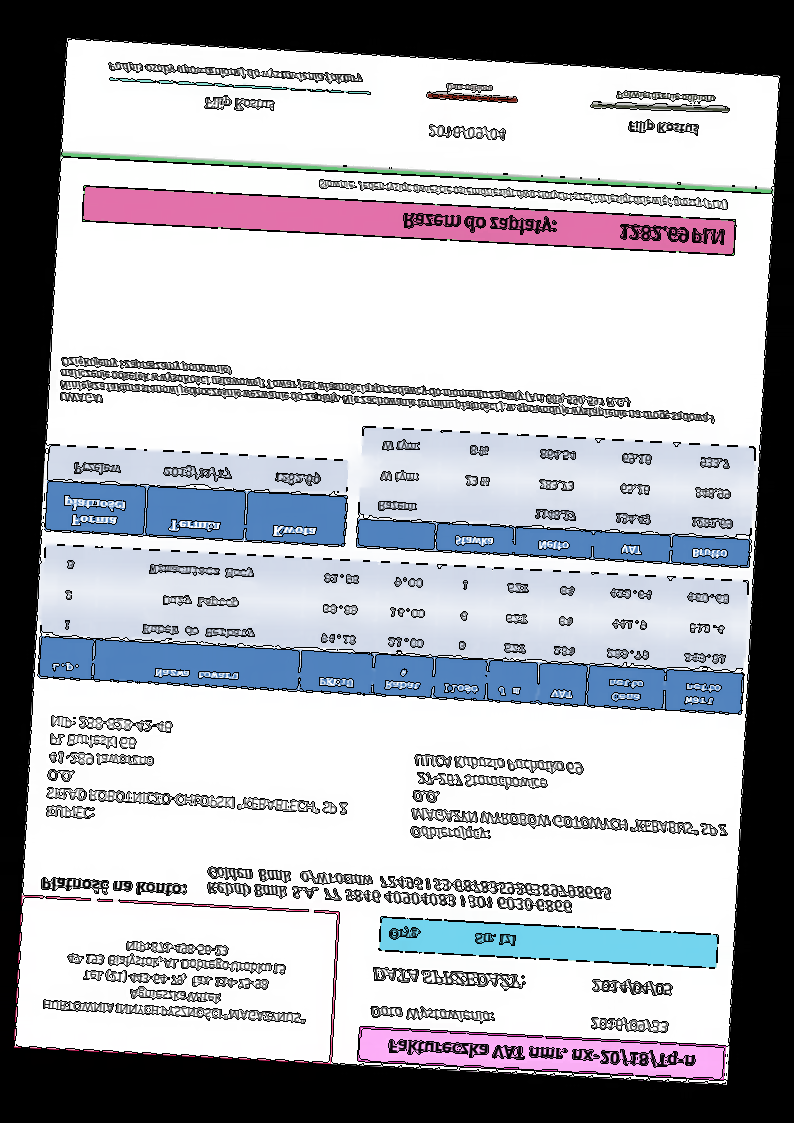Table: (37, 541, 750, 718), (354, 423, 757, 570), (43, 443, 349, 547)
TextBox: (55, 353, 719, 441), (42, 709, 354, 838), (408, 748, 735, 858), (37, 932, 311, 1027), (203, 862, 614, 918), (313, 176, 729, 216), (400, 207, 728, 252), (383, 1034, 698, 1072), (105, 57, 369, 87), (368, 962, 527, 995), (34, 872, 188, 902), (383, 923, 519, 952), (365, 1002, 496, 1030), (588, 975, 675, 1002), (425, 121, 510, 148), (614, 88, 717, 107), (624, 118, 705, 141), (587, 1014, 670, 1036), (200, 93, 276, 117), (440, 79, 497, 98)
